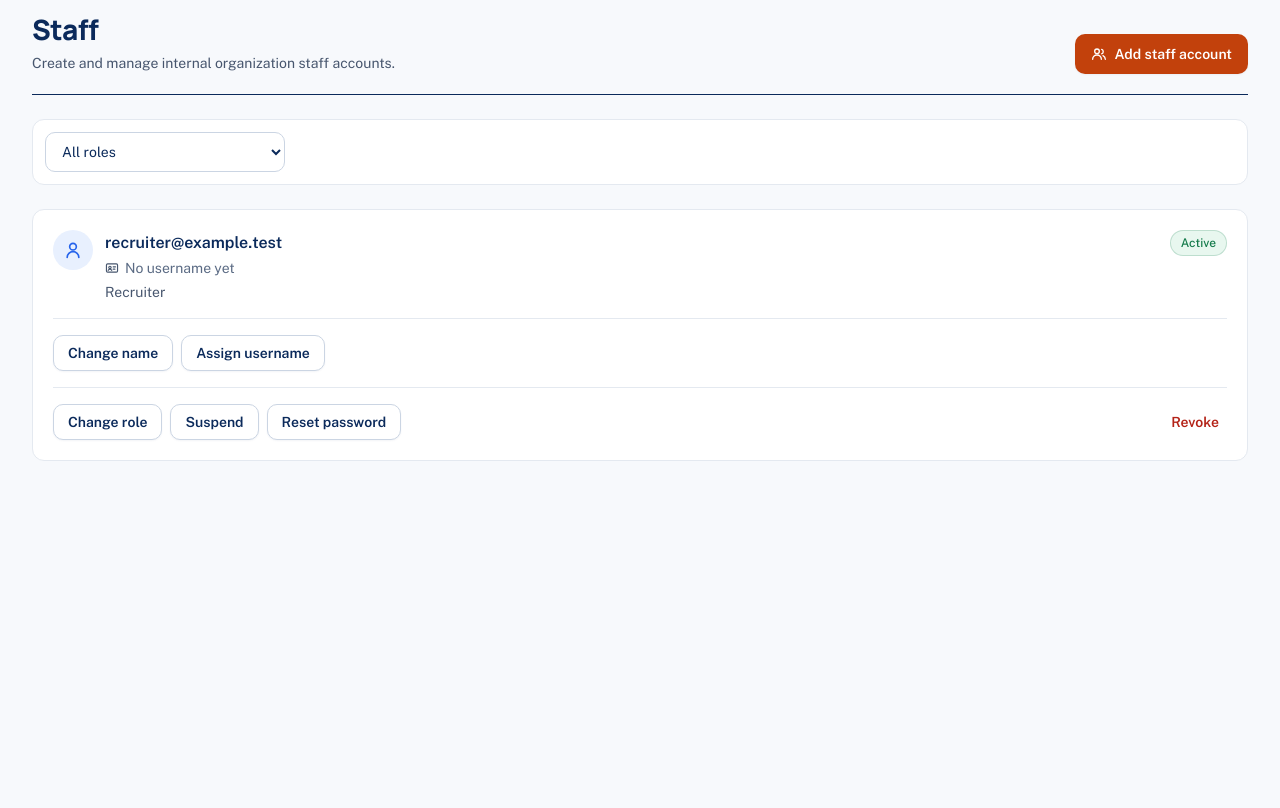
Test: StaffPage (organization) › blocks submission when password and confirmation differ
Click the button "Add staff account" at (1161, 54), box top-left (1074, 34), bottom-right (1248, 74)
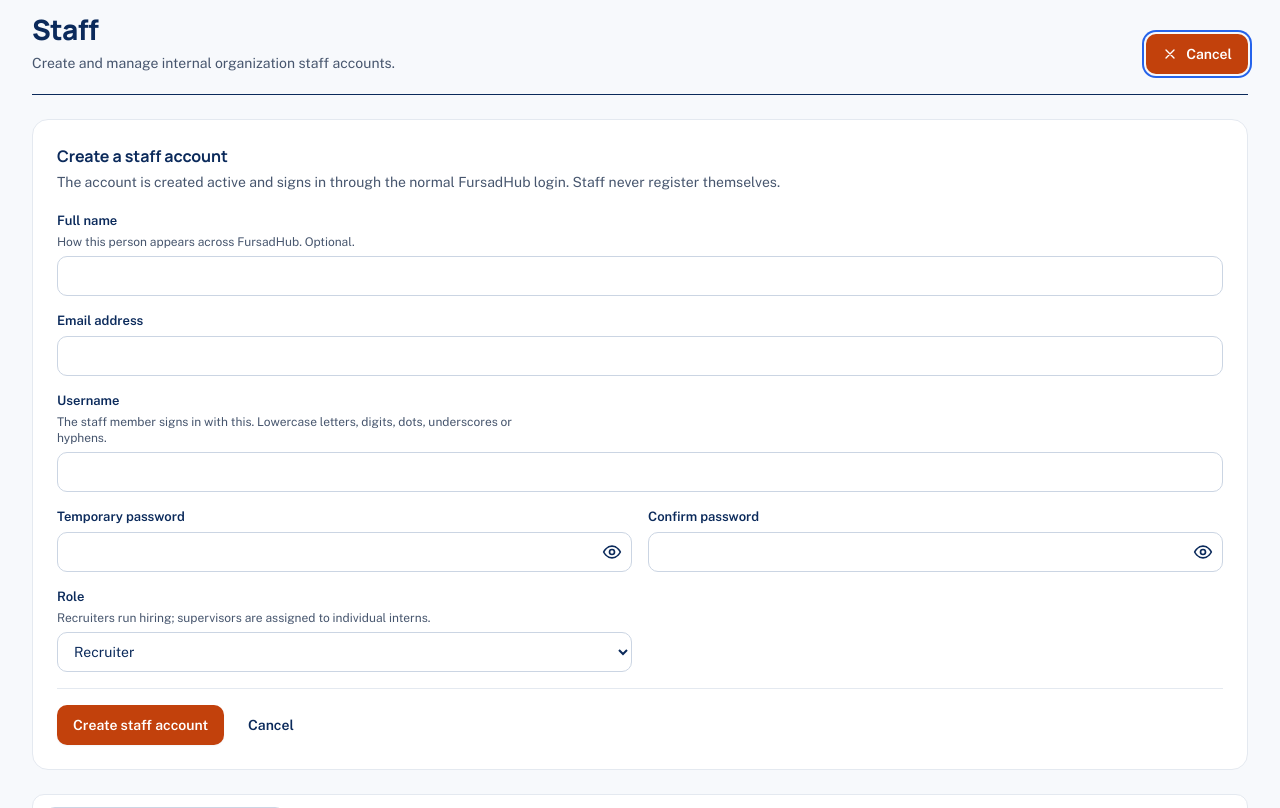
Type "new-recruiter@example.test" into the field labelled "Email address" at (640, 356), box top-left (57, 336), bottom-right (1223, 376)
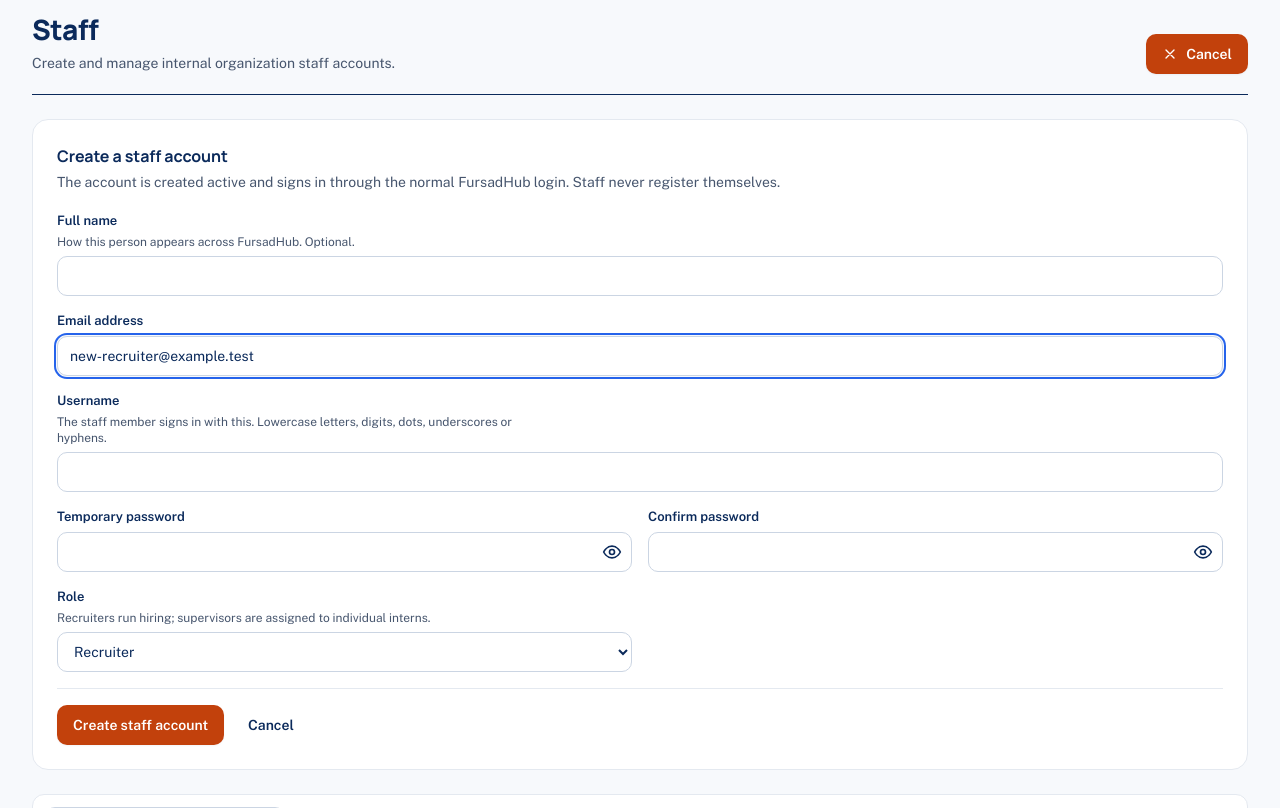
Type "new.staff" into the field labelled "Username" at (640, 472), box top-left (57, 452), bottom-right (1223, 492)
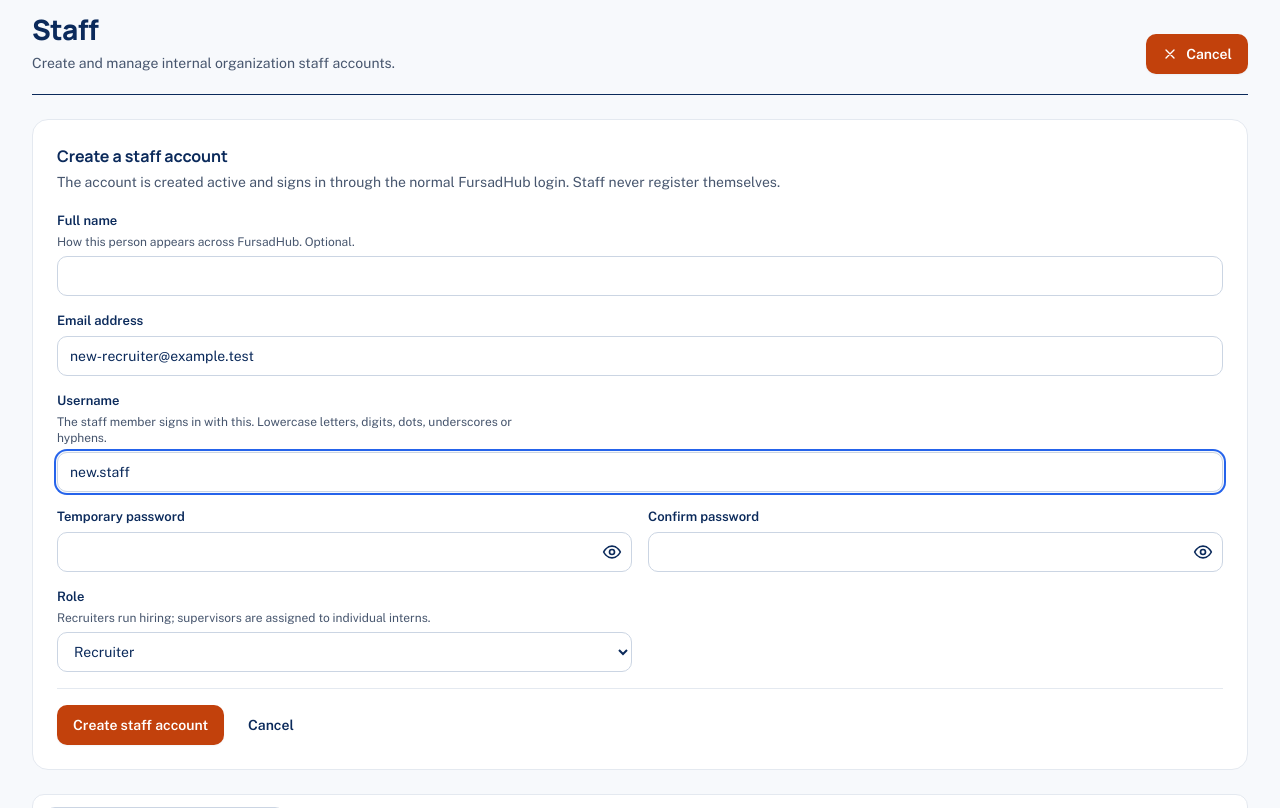
Type "Password123" into the password field labelled "Temporary password" at (344, 552), box top-left (57, 532), bottom-right (632, 572)
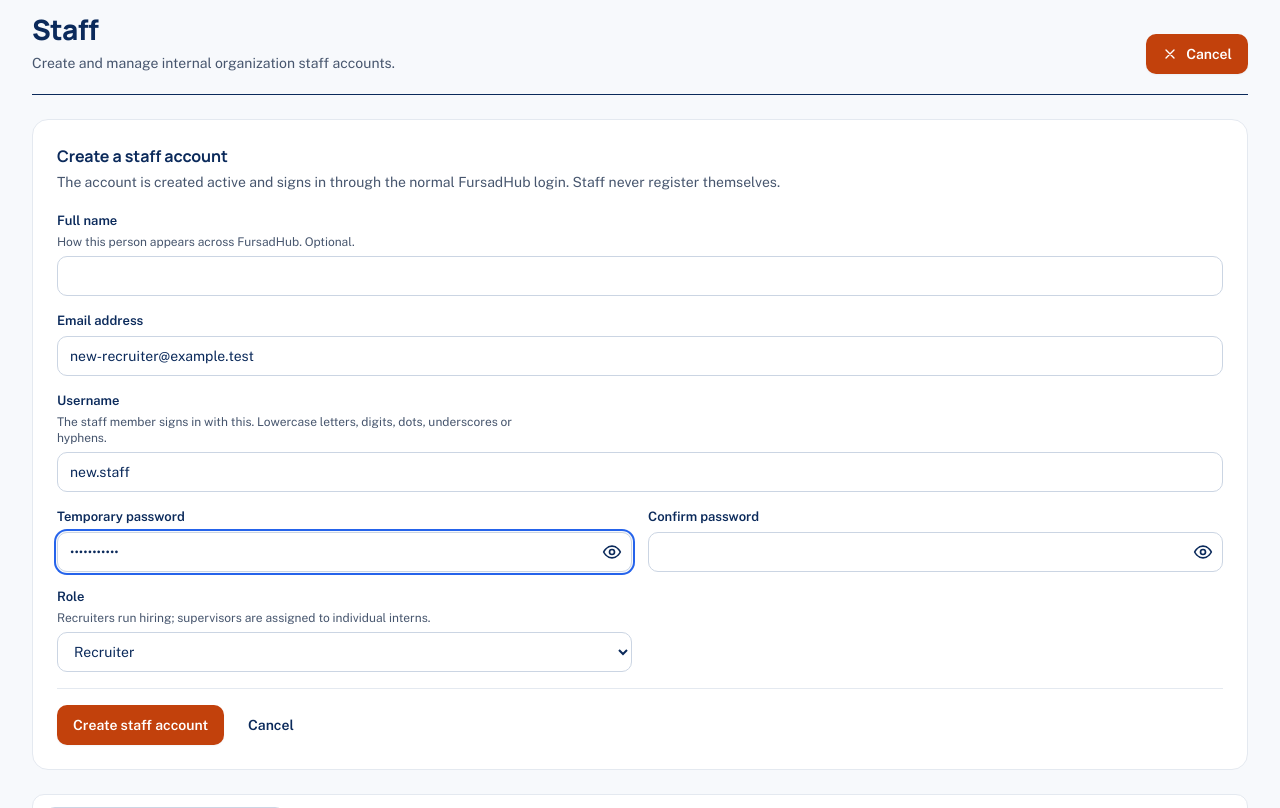
Type "Password124" into the password field labelled "Confirm password" at (936, 552), box top-left (648, 532), bottom-right (1223, 572)
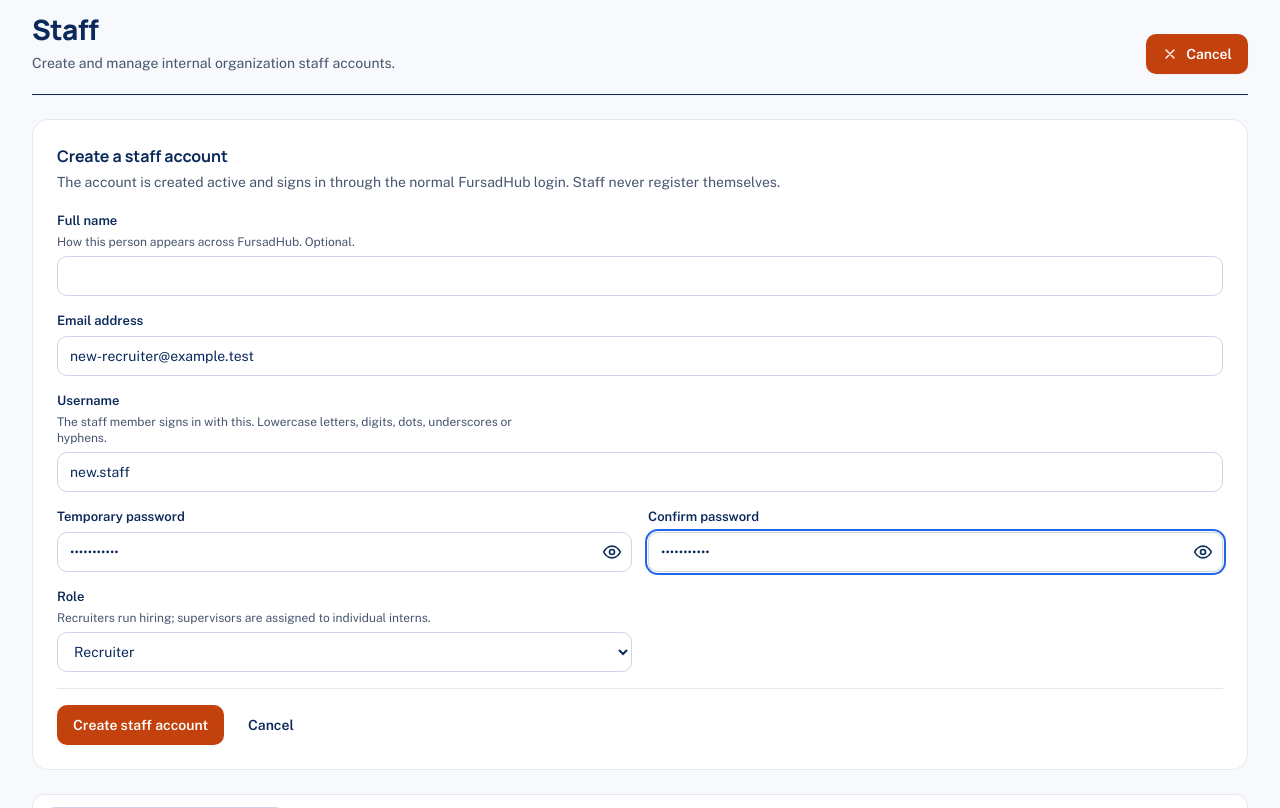
Click the button "Create staff account" at (141, 725), box top-left (57, 705), bottom-right (224, 745)
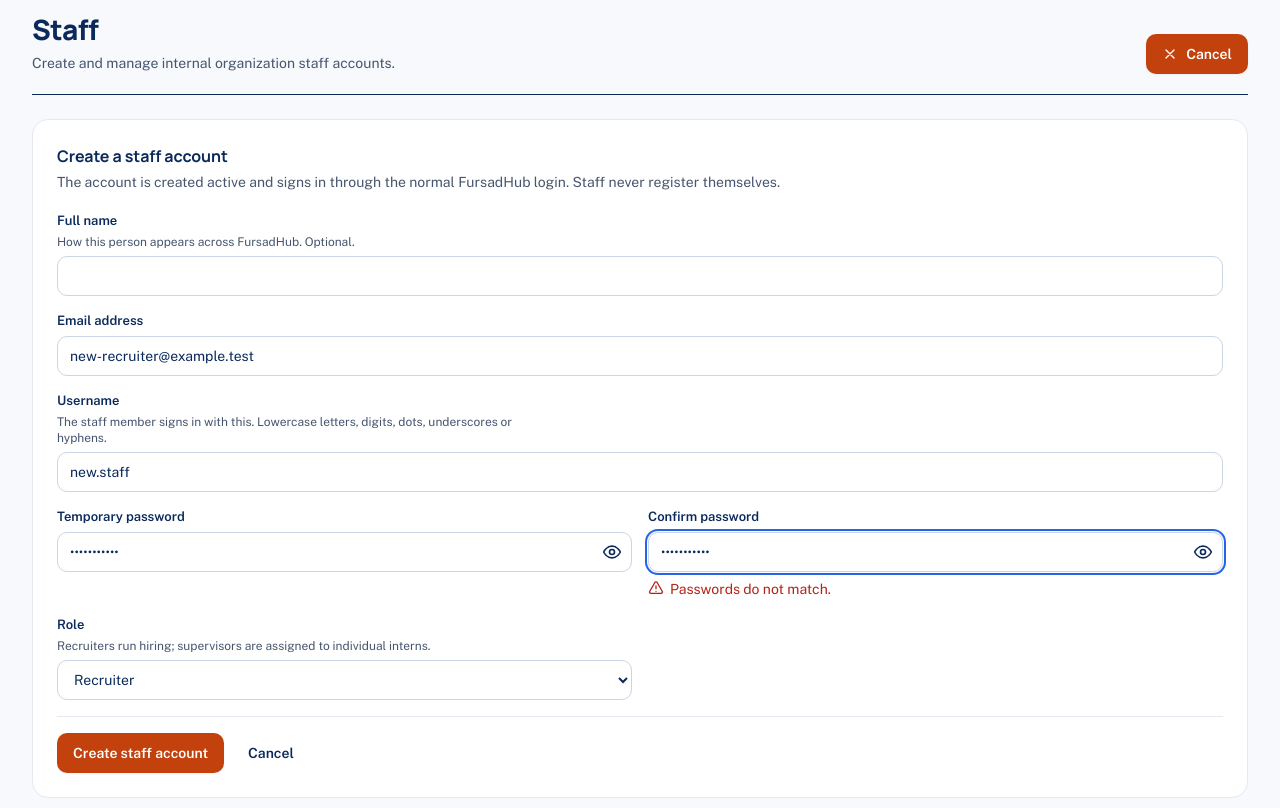
expect the text "Passwords do not match." is shown: met, box top-left (648, 580), bottom-right (831, 597)
